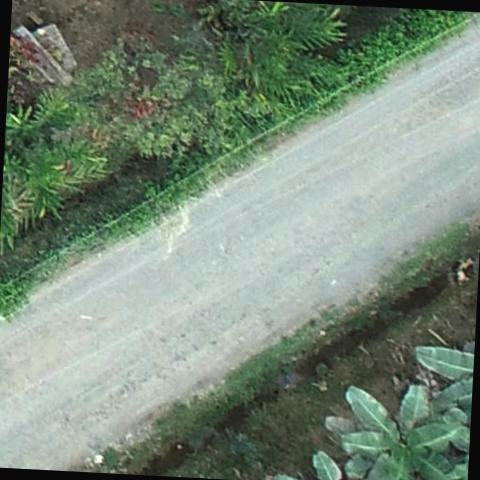Banana-plant: (330, 377, 472, 480)
